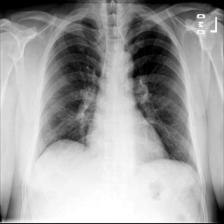normal: (34, 6, 200, 177)
